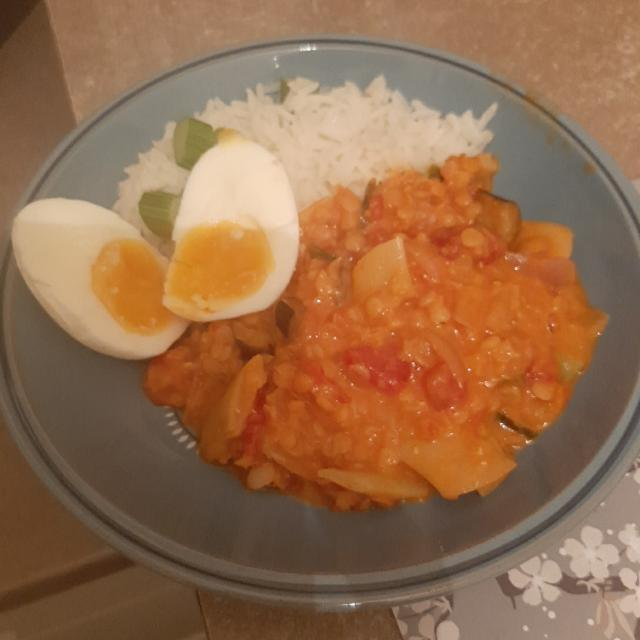egg: (20, 148, 295, 369)
rice: (119, 89, 487, 247)
soup: (186, 172, 588, 493)
